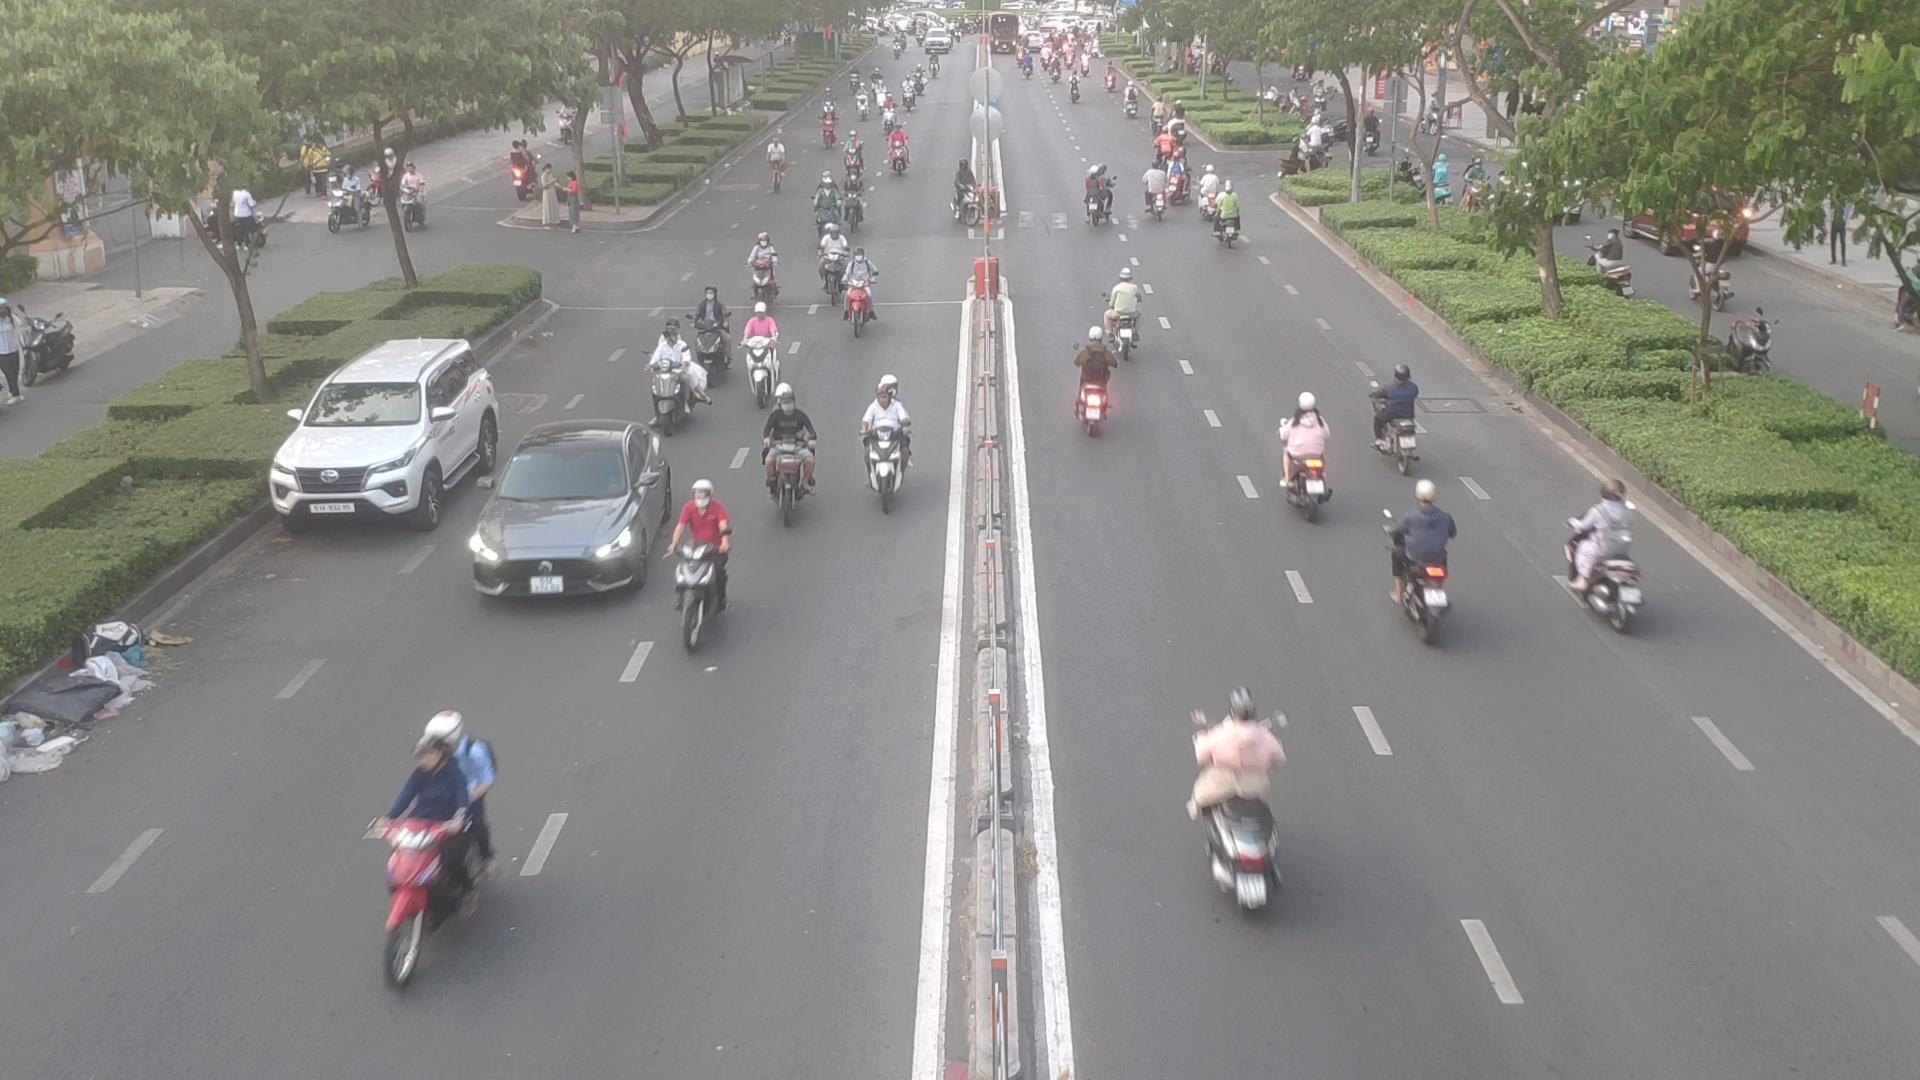car: (273, 339, 516, 531), (463, 433, 680, 603)
motorbike: (349, 702, 513, 982), (1189, 694, 1304, 905), (1575, 488, 1656, 632), (667, 471, 731, 655), (1381, 493, 1461, 634), (855, 381, 916, 508), (761, 394, 825, 516), (1267, 402, 1333, 520), (1063, 327, 1127, 435), (644, 332, 707, 429), (1366, 371, 1428, 468), (735, 294, 785, 401), (1091, 273, 1153, 356), (684, 294, 738, 378), (738, 233, 785, 306), (1209, 185, 1254, 251), (847, 249, 877, 335), (1077, 165, 1117, 227), (816, 220, 845, 301), (949, 156, 978, 227), (1145, 160, 1178, 220), (841, 171, 866, 231), (1193, 169, 1220, 223), (884, 129, 914, 175), (815, 174, 833, 237), (1162, 152, 1185, 196), (841, 128, 858, 187), (820, 115, 844, 149)
